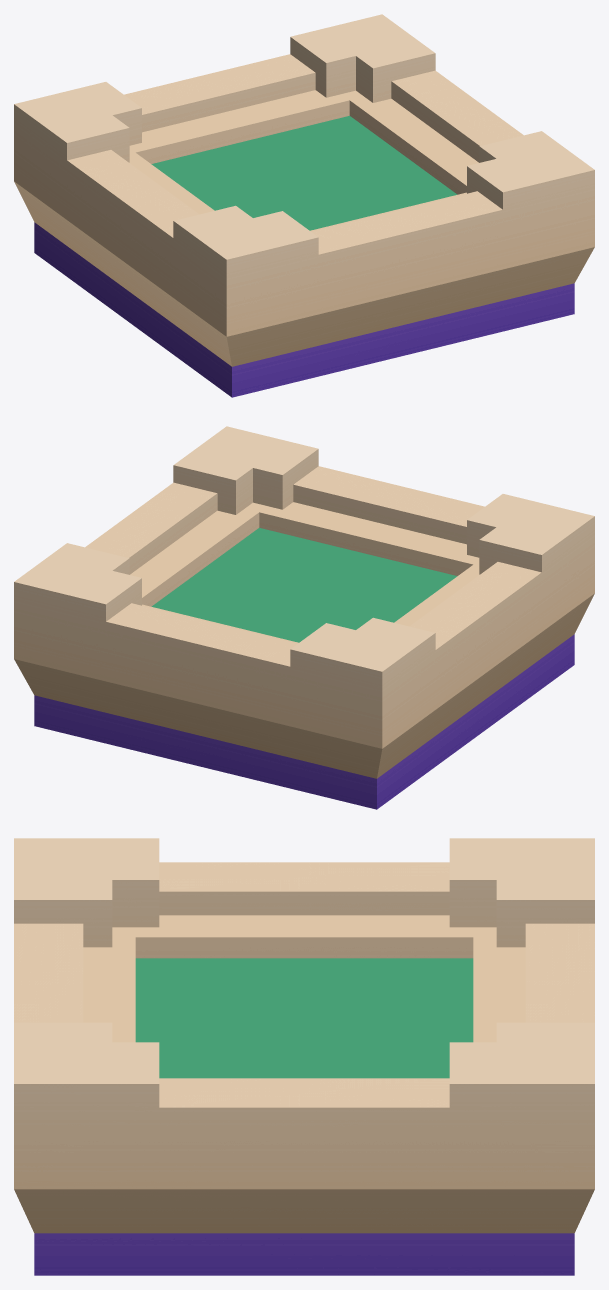
Rendered from tower-square-top-color.glb.
The picture shows the model from 3 angles, top to bottom: view 1: azimuth 30°, elevation 25°; view 2: azimuth 150°, elevation 25°; view 3: azimuth 270°, elevation 25°; orthographic projection. The views are drawn at different scales.
Parts seen in each view (by area): view 1: tower-square-top-color; view 2: tower-square-top-color; view 3: tower-square-top-color.
Boxes of the visible parts, bbox=[...] form: tower-square-top-color: bbox=[14, 14, 594, 397]; tower-square-top-color: bbox=[14, 426, 594, 809]; tower-square-top-color: bbox=[14, 838, 594, 1275].
Bounding box in the file's own units: 1 × 0.38 × 1.
